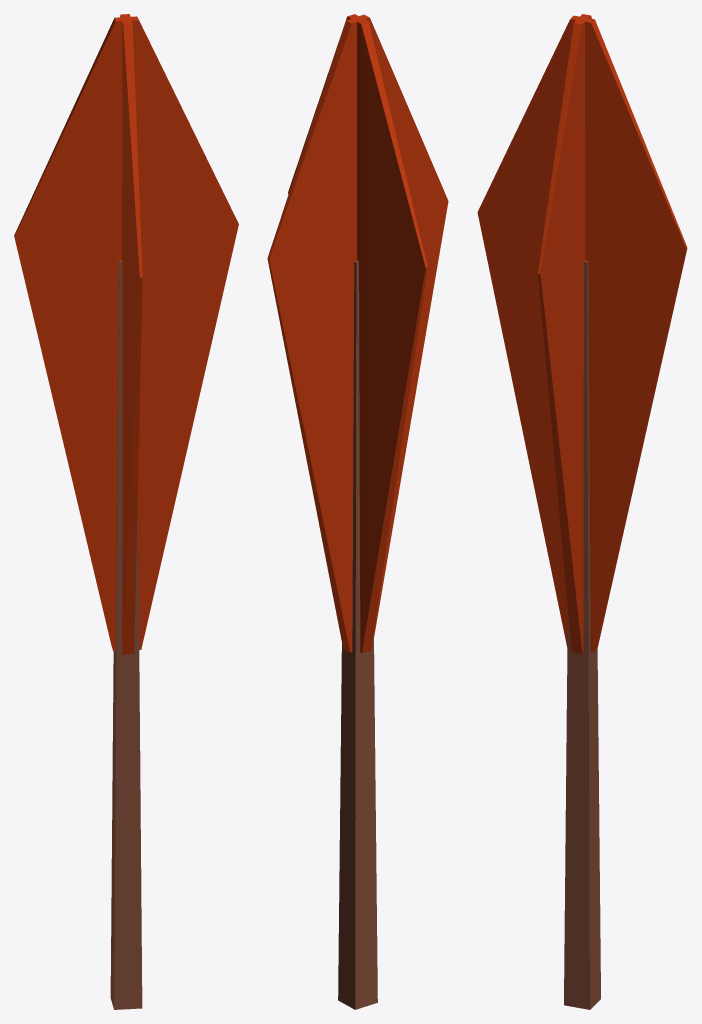
The model's file is Tree_32_summer_red_mat.fbx.
The picture shows the model from 3 angles, left to right: view 1: azimuth 30°, elevation 25°; view 2: azimuth 150°, elevation 25°; view 3: azimuth 270°, elevation 25°; orthographic projection.
Parts seen in each view (by area): view 1: Tree_32_summer_red_mat; view 2: Tree_32_summer_red_mat; view 3: Tree_32_summer_red_mat.
Boxes of the visible parts, left/top/right/bottom form: Tree_32_summer_red_mat: left=14, top=14, right=238, bottom=1009; Tree_32_summer_red_mat: left=267, top=14, right=448, bottom=1009; Tree_32_summer_red_mat: left=477, top=14, right=687, bottom=1009.
Size of the model in its own units: 48.99 by 253 by 48.99.
